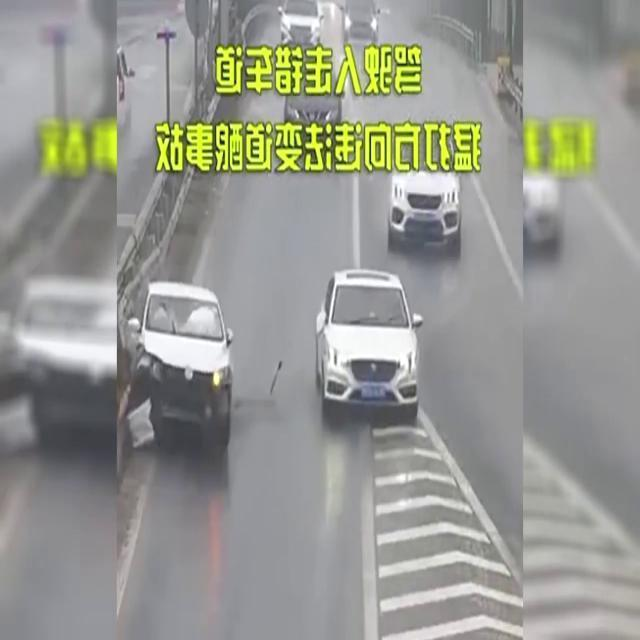accident: (119, 278, 281, 456)
